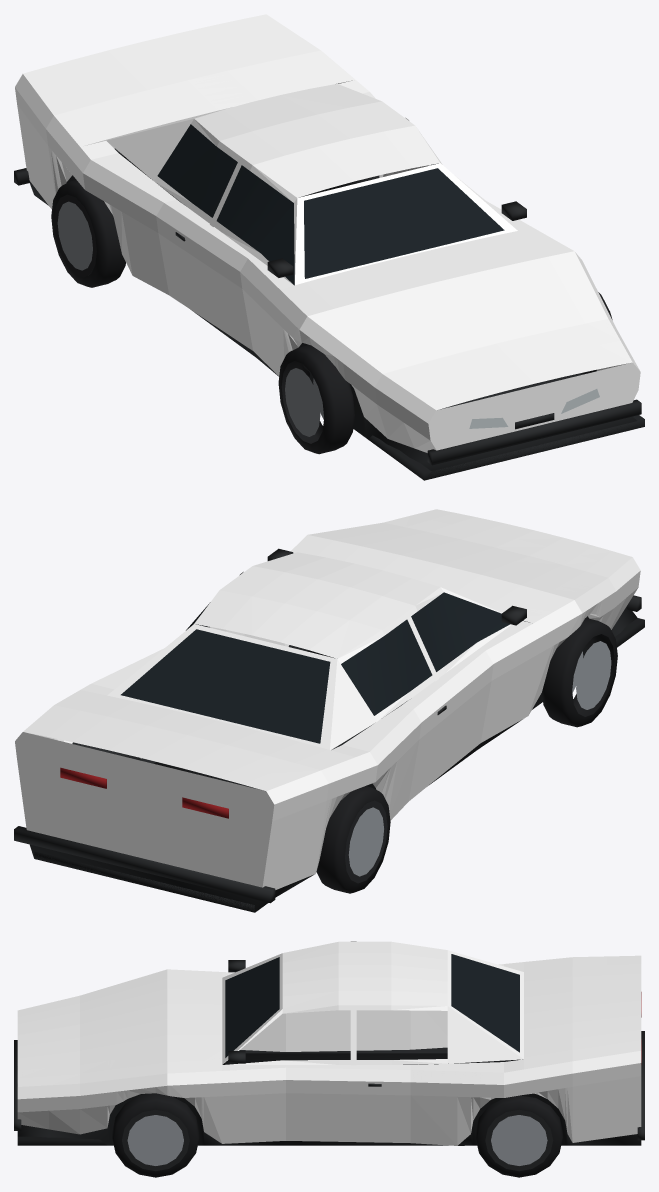
Rendered from corsalto_aurora.glb.
3 views of the same model, one above another, from view 1: azimuth 30°, elevation 25°; view 2: azimuth 150°, elevation 25°; view 3: azimuth 270°, elevation 25° (orthographic). The views are drawn at different scales.
Visible parts, largest first — view 1: Body_Paint, Body_Details, Mount_FrontLeft_Wheel_Details, Mount_RearLeft_Wheel_Details; view 2: Body_Paint, Body_Details, Mount_FrontLeft_Wheel_Details, Mount_RearLeft_Wheel_Details; view 3: Body_Paint, Body_Details, Mount_FrontRight_Wheel_Details, Mount_RearRight_Wheel_Details.
Part boxes in pixels (x1,y1,x2,y2): Body_Paint: (15, 14, 640, 452); Body_Details: (14, 124, 644, 480); Mount_FrontLeft_Wheel_Details: (278, 345, 354, 454); Mount_RearLeft_Wheel_Details: (51, 180, 125, 287); Body_Paint: (15, 509, 640, 889); Body_Details: (14, 548, 644, 912); Mount_FrontLeft_Wheel_Details: (542, 618, 617, 727); Mount_RearLeft_Wheel_Details: (316, 786, 390, 893); Body_Paint: (17, 941, 641, 1145); Body_Details: (14, 954, 644, 1145); Mount_FrontRight_Wheel_Details: (112, 1093, 199, 1177); Mount_RearRight_Wheel_Details: (475, 1095, 562, 1177).
Bounding box in the file's own units: 2.03 × 1.25 × 4.7.
2 materials, 1 textured.
